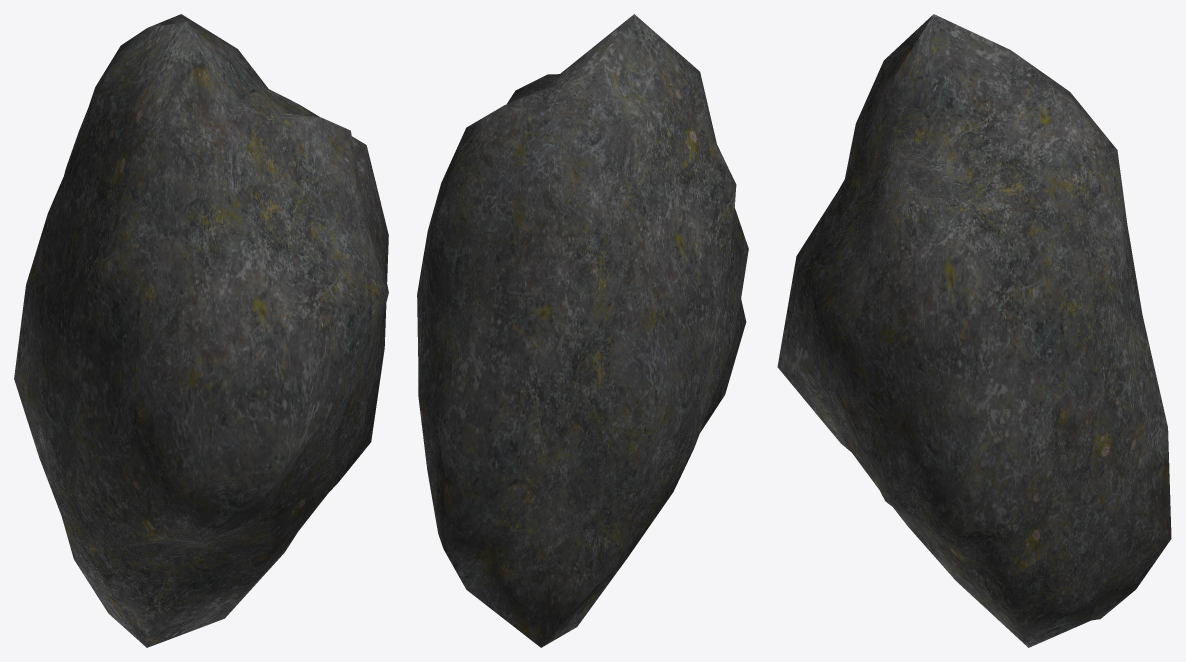
Rendered from Asteroid02.FBX.
The picture shows the model from 3 angles, left to right: view 1: azimuth 30°, elevation 25°; view 2: azimuth 150°, elevation 25°; view 3: azimuth 270°, elevation 25°; orthographic projection. The views are drawn at different scales.
Parts seen in each view (by area): view 1: Asteroid02; view 2: Asteroid02; view 3: Asteroid02.
Part boxes in pixels (x1=…): Asteroid02: x1=14, y1=14, x2=388, y2=647; Asteroid02: x1=417, y1=14, x2=748, y2=647; Asteroid02: x1=777, y1=14, x2=1171, y2=647.
Size of the model in its own units: 45.2 by 92.25 by 54.63.
